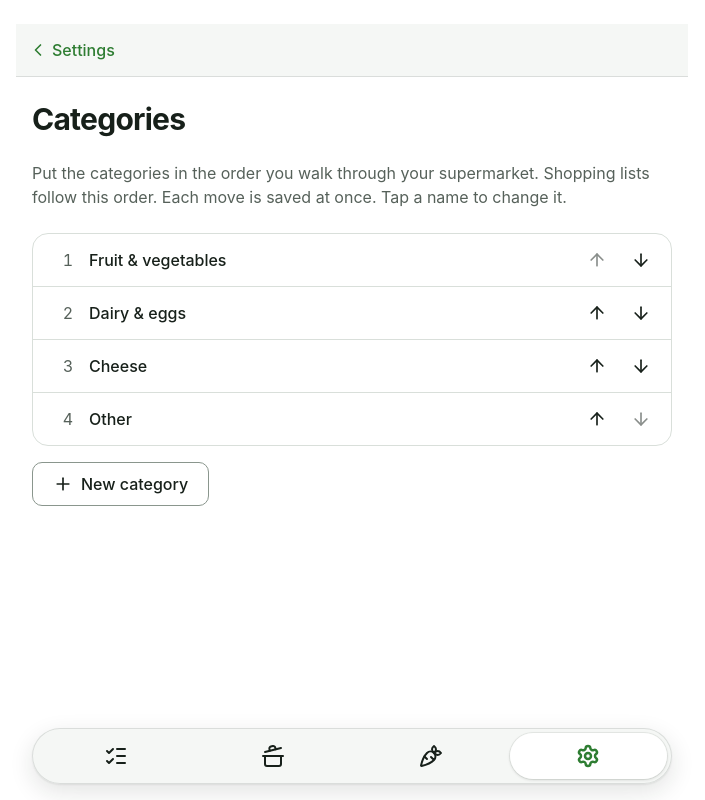
Test: AdminCategoriesScreen › still saves a tap made just before leaving the screen (ADM-01)
Expected: the list with test id "admin-category-list" is shown, [32, 233, 672, 446]
Click the button named "Move Other up".
click(597, 419)  # box [575, 397, 619, 441]
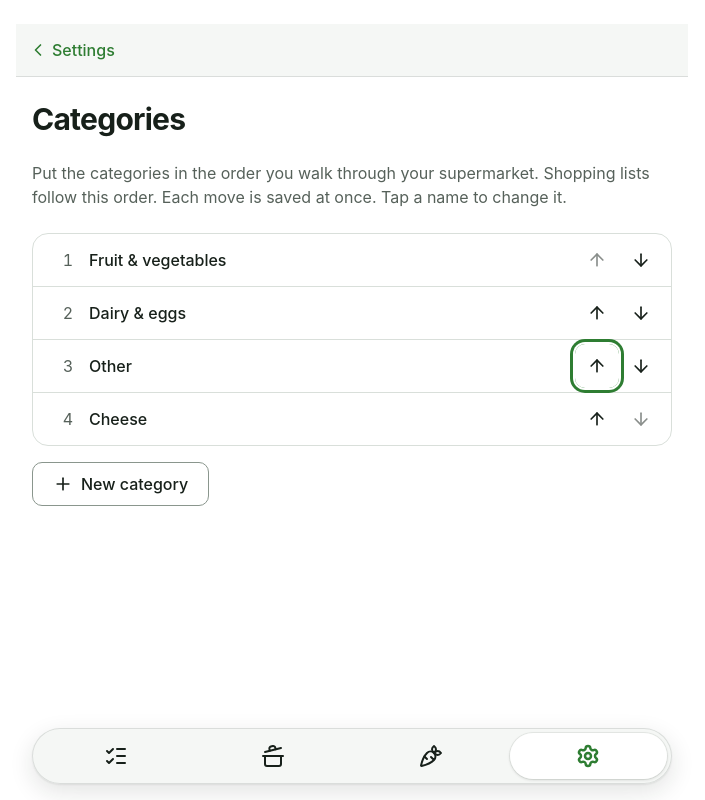
Click the button named "Move Other up".
click(597, 366)  # box [575, 344, 619, 388]
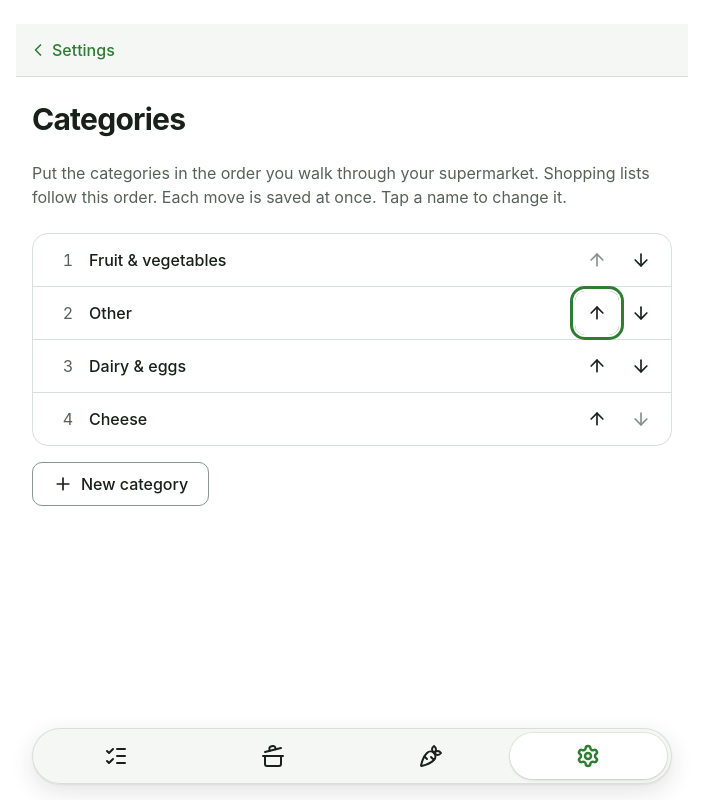
Click the link with test id "back-link".
click(71, 50)  # box [28, 40, 115, 60]
(page scrolled)
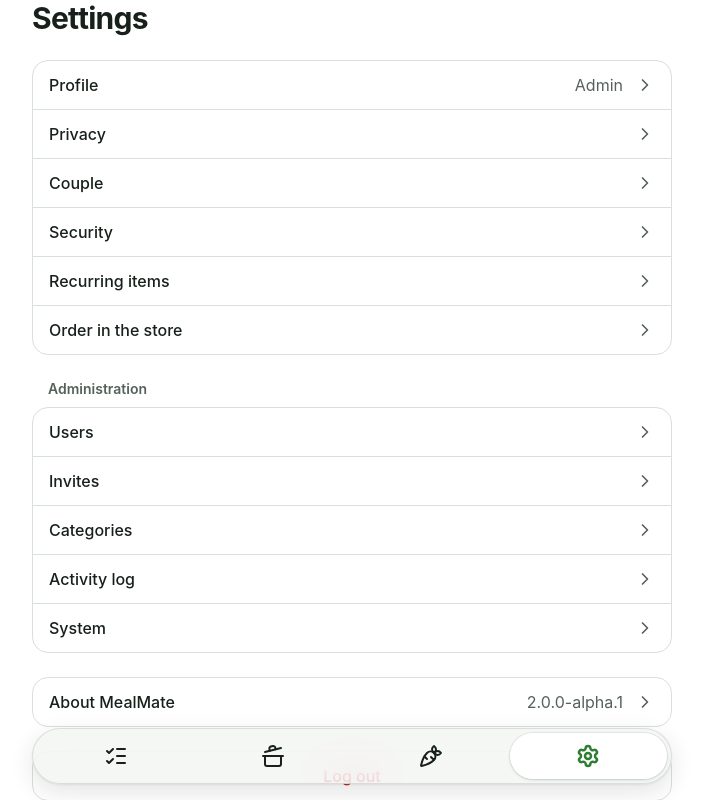
Expected: the element with test id "screen-me" is shown
